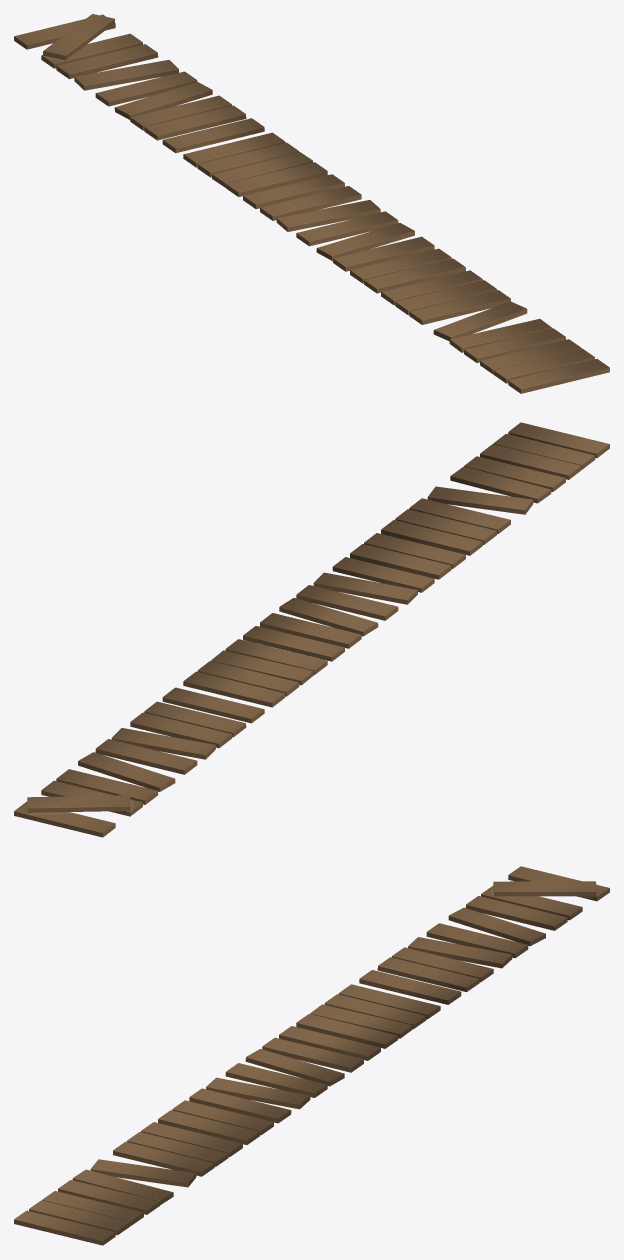
The model's file is bridge_planks.fbx.
3 views of the same model, one above another, from view 1: azimuth 30°, elevation 25°; view 2: azimuth 150°, elevation 25°; view 3: azimuth 330°, elevation 25° (orthographic).
Visible parts, largest first — view 1: bridge_walk; view 2: bridge_walk; view 3: bridge_walk.
Part boxes in pixels (left/top/right/bottom): bridge_walk: left=14, top=14, right=609, bottom=393; bridge_walk: left=14, top=422, right=609, bottom=837; bridge_walk: left=14, top=866, right=609, bottom=1245.
Size of the model in its own units: 206 by 48.55 by 1975.
1 material, 1 textured.
